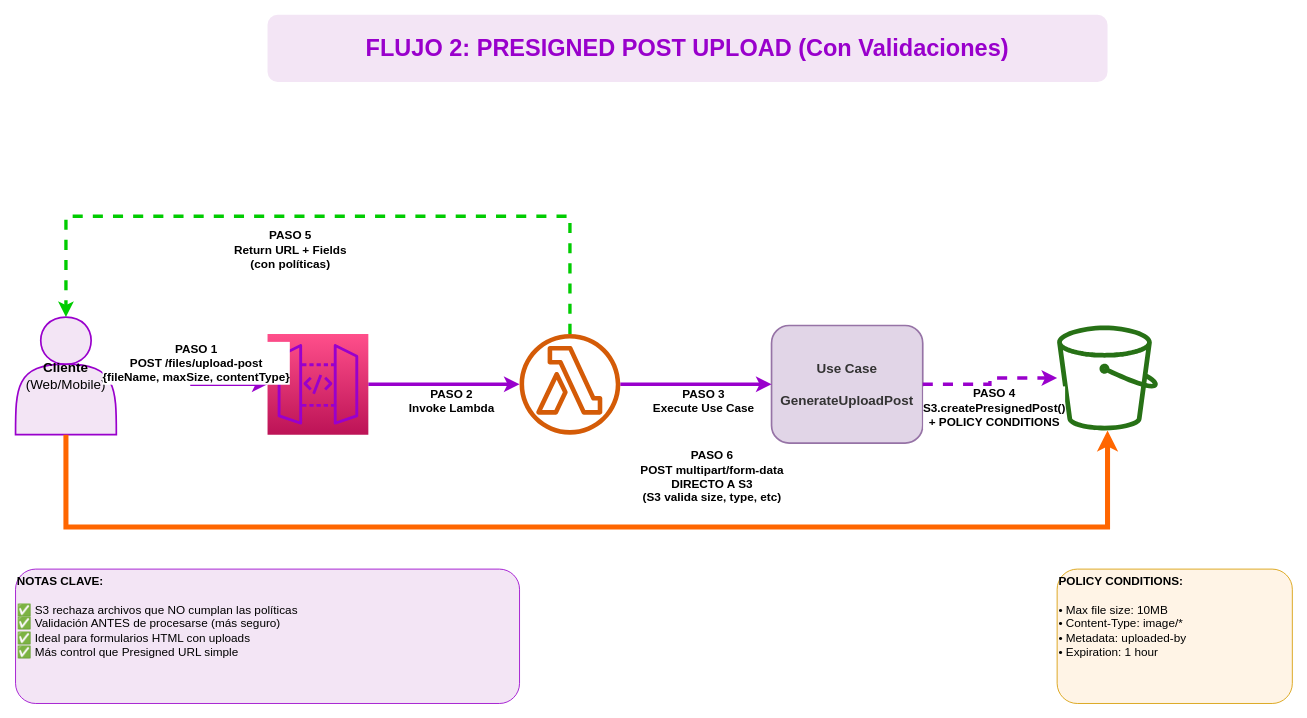
This 1307x718 diagram has some shape labels left out. The shapes that lost their labels are listed below. From the top down, each one's centre as x and y in pixels, then its label:
At (x=317, y=384): "API Gateway REST API".
At (x=569, y=384): "generateUploadPost Lambda Handler".
At (x=1107, y=377): "S3 Bucket file-service-uploads".
